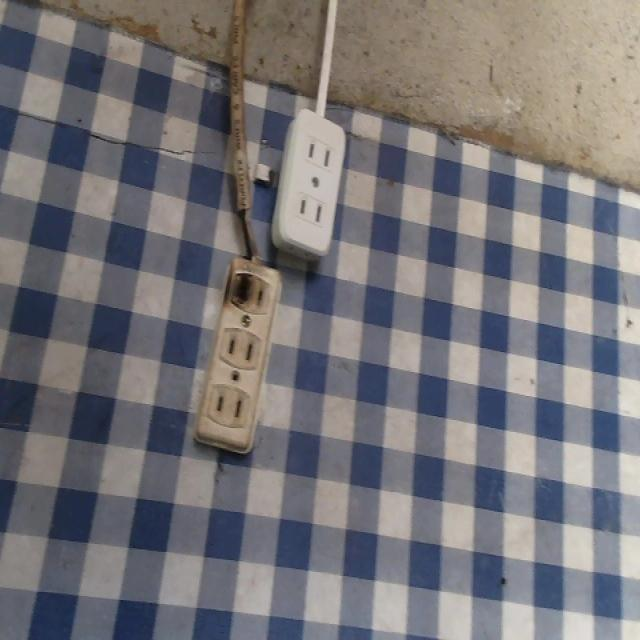-: (225, 267, 257, 313)
